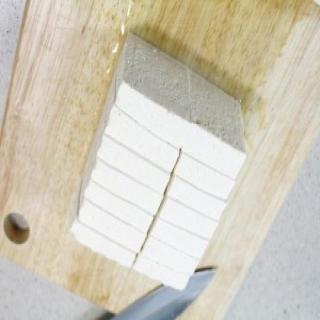Tahu: (70, 32, 248, 289)
